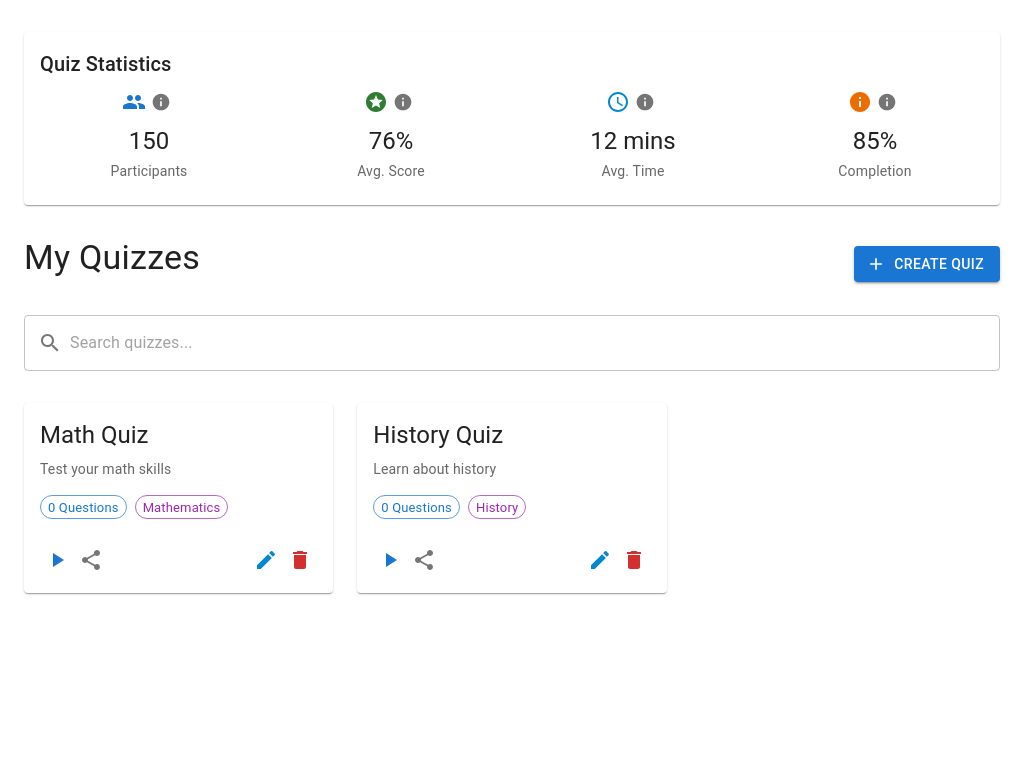
Test case: Dashboard Tests › handles quiz deletion and updates UI
Check: the heading "Math Quiz" is shown, box [40,421,148,449]
Find and click delete button for Math Quiz
Click the button named "delete" below "Mathematics". click: click(300, 560)
box: [283,543,317,577]
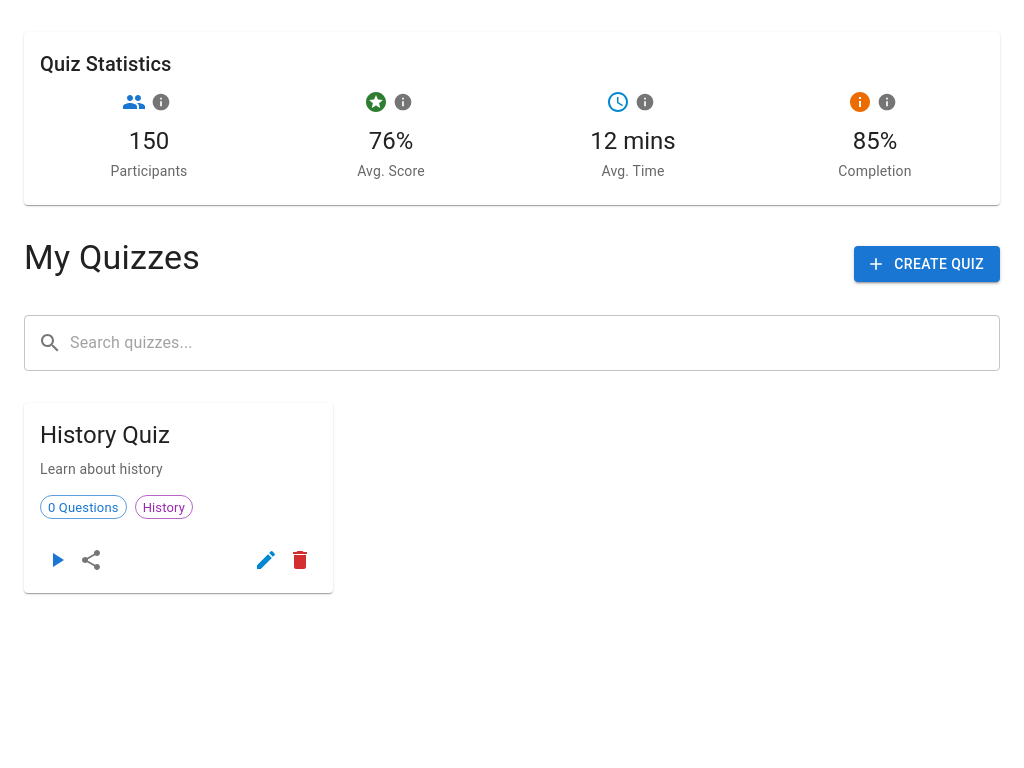
Check: the heading "History Quiz" is shown, box [40,421,170,449]
Check: the heading "Math Quiz" is gone
